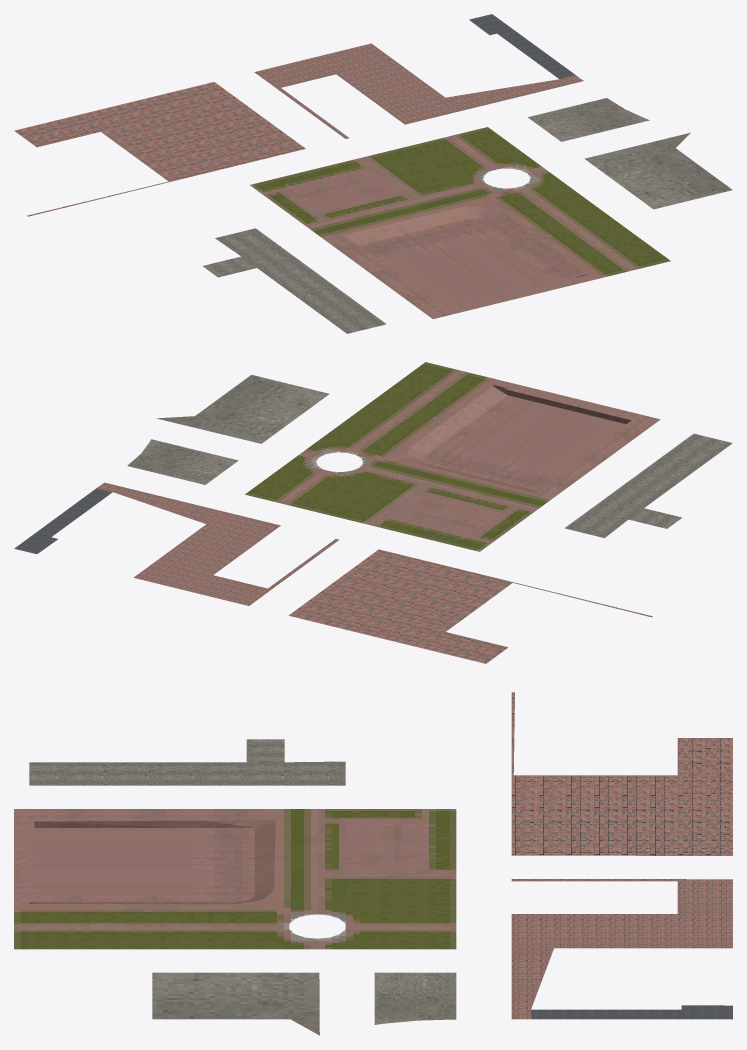
File: lodorthland06.obj
3 views of the same model, one above another, from view 1: azimuth 30°, elevation 25°; view 2: azimuth 150°, elevation 25°; view 3: azimuth 270°, elevation 25° (orthographic). The views are drawn at different scales.
Visible parts, largest first — view 1: lodorthland06; view 2: lodorthland06; view 3: lodorthland06.
Boxes of the visible parts, bbox=[...] form: lodorthland06: bbox=[14, 14, 732, 333]; lodorthland06: bbox=[14, 362, 732, 663]; lodorthland06: bbox=[14, 692, 732, 1035].
Size of the model in its own units: 294 by 3.52 by 260.
4 materials, 4 textured.
